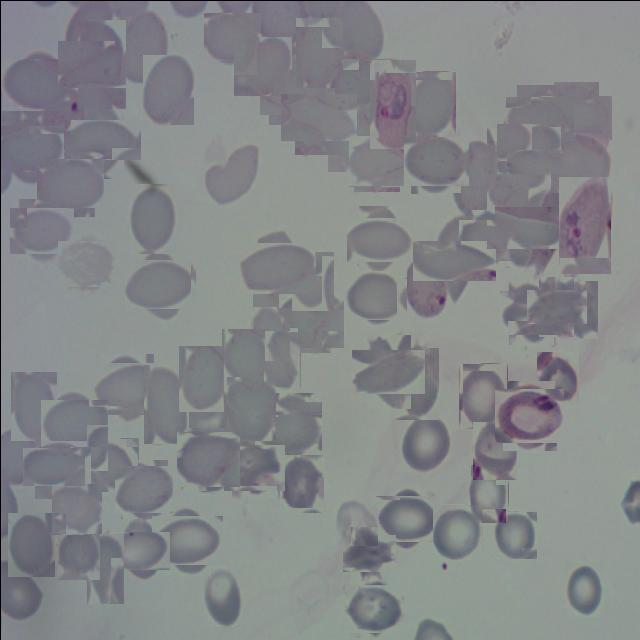leukocyte: (67, 29, 135, 98), (246, 236, 310, 300), (423, 230, 485, 292), (476, 138, 538, 200), (287, 86, 349, 148), (280, 288, 342, 349), (114, 12, 167, 83), (96, 357, 157, 418), (156, 510, 217, 570), (129, 253, 189, 314), (6, 54, 66, 114), (494, 198, 554, 258), (178, 428, 238, 488), (142, 54, 193, 124), (143, 364, 188, 443), (550, 132, 609, 192), (233, 35, 292, 95), (358, 342, 417, 401), (40, 153, 99, 212), (204, 144, 262, 204), (74, 110, 132, 169), (295, 16, 343, 87), (258, 396, 316, 454), (546, 88, 604, 146), (0, 119, 58, 177), (499, 120, 557, 178), (452, 140, 494, 220), (45, 394, 102, 452), (263, 62, 321, 119), (406, 132, 464, 189), (406, 70, 456, 136), (128, 183, 175, 253), (400, 411, 452, 474), (327, 102, 374, 171), (458, 362, 507, 428), (10, 372, 56, 442), (510, 90, 567, 146), (226, 376, 275, 441), (378, 490, 434, 546), (347, 266, 403, 322), (352, 211, 408, 267), (395, 347, 438, 419), (13, 203, 69, 258), (7, 512, 54, 576), (346, 580, 401, 634), (503, 285, 558, 339), (178, 345, 223, 411), (227, 440, 281, 494), (432, 503, 482, 561), (328, 54, 381, 108), (221, 328, 267, 390), (117, 462, 170, 515), (206, 10, 258, 63), (60, 237, 112, 290), (86, 532, 124, 603), (279, 453, 324, 512), (50, 483, 101, 534), (90, 437, 138, 491), (291, 250, 334, 310), (472, 421, 516, 479), (350, 138, 401, 188), (114, 525, 164, 575), (461, 214, 511, 264), (28, 442, 78, 492), (532, 282, 580, 330), (203, 568, 242, 626), (558, 280, 597, 338), (536, 351, 578, 404), (470, 464, 508, 522), (57, 527, 99, 579), (562, 562, 602, 616), (346, 530, 392, 576), (493, 510, 537, 558), (263, 331, 300, 386), (250, 307, 288, 360), (335, 500, 377, 545)
red blood cell: (498, 384, 560, 446)
schizont: (558, 175, 611, 273), (369, 58, 416, 148)
